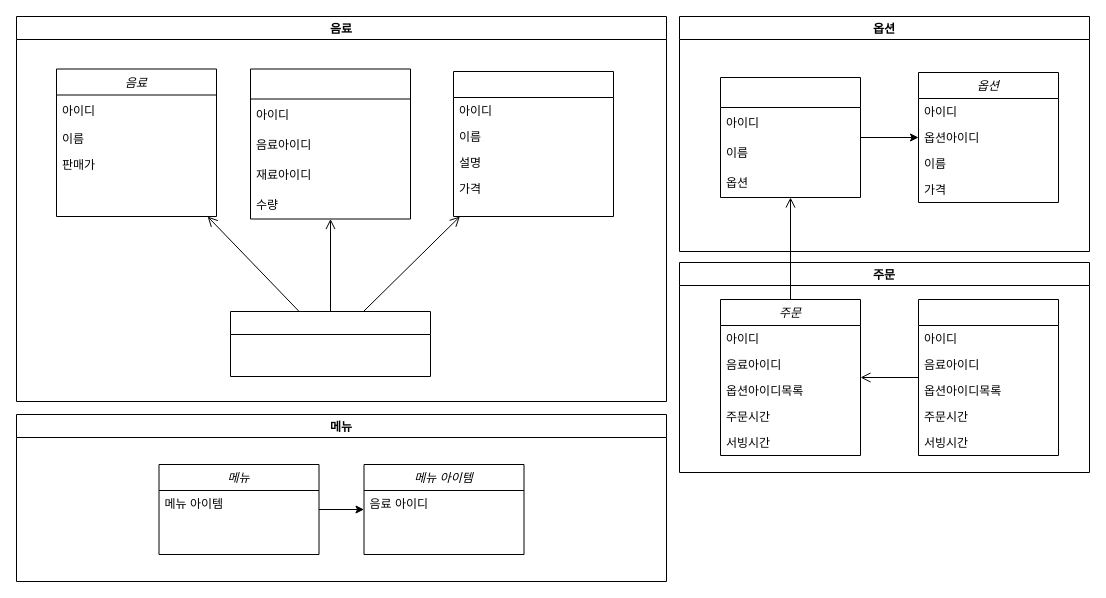
Image size: 1106x598. Some labels were removed from this diagram. The box of each missing label's shape, as (x1, y1, x2, y2) in pixels:
레시피: (250, 68, 410, 219)
옵션그룹: (720, 76, 860, 198)
음료서비스: (230, 310, 430, 376)
재료: (452, 70, 614, 216)
주문목록: (918, 298, 1058, 456)
